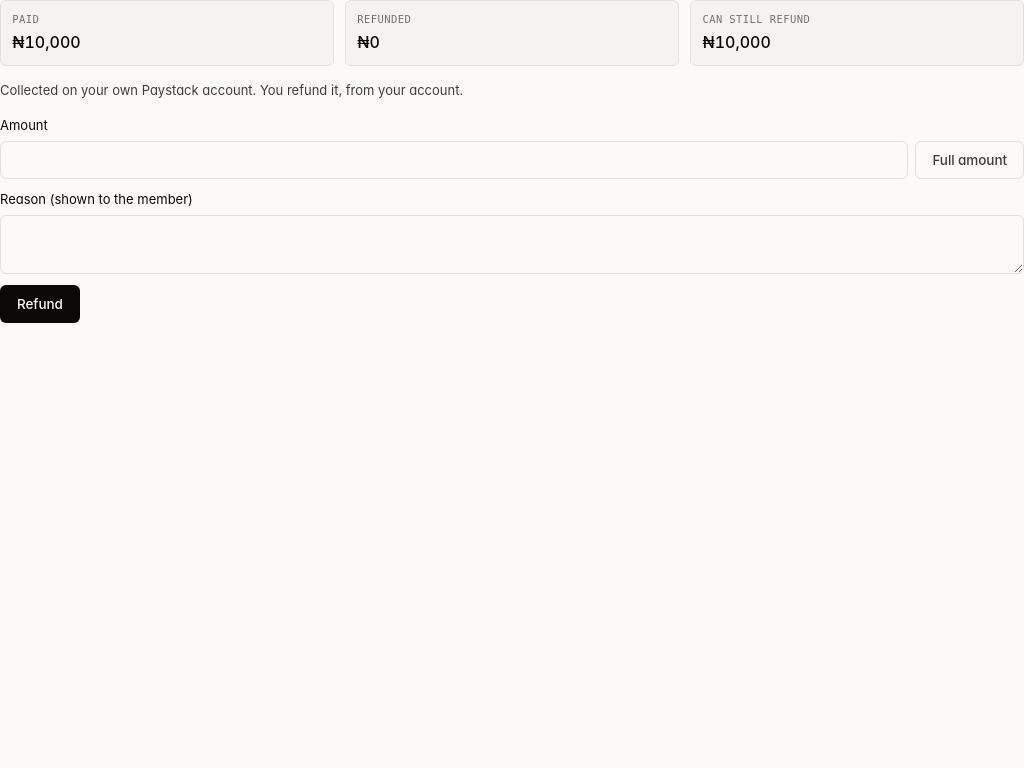
ChargeRefundPanel › own-key money: the provider refunds it, in minor units, with one key reused across a retry
Expected: the text "your own Paystack account" is shown, [0,82,463,98]
Click the button "Full amount". click: (970, 160)
box: [915,141,1023,179]
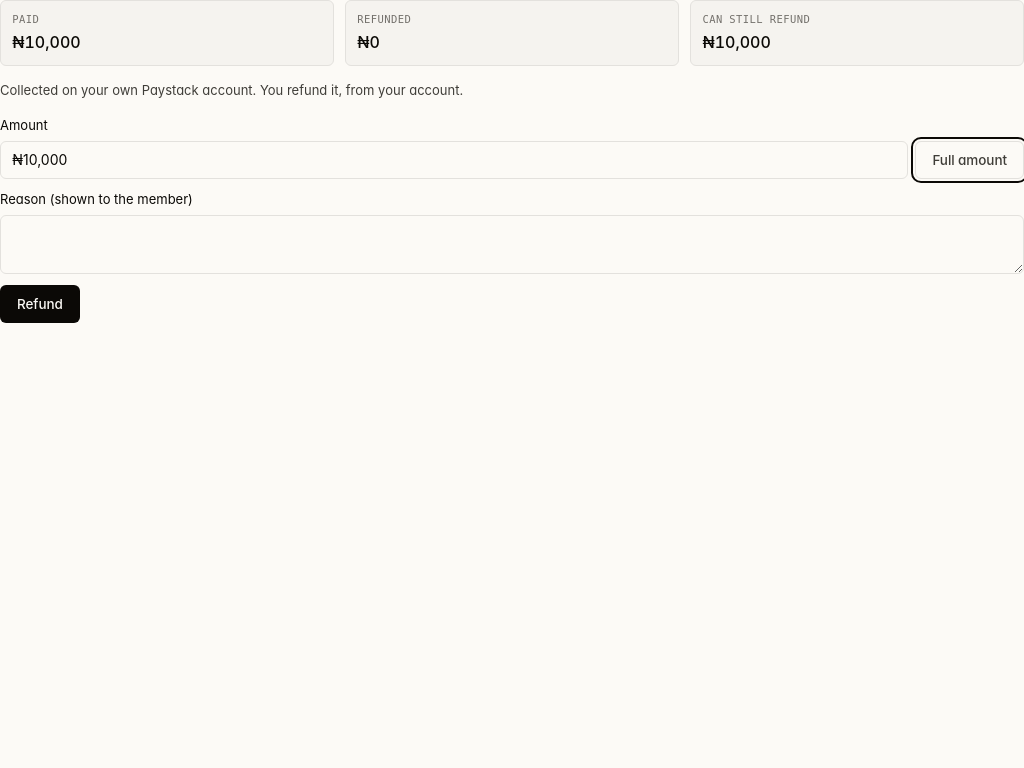
Click the button "Refund". click: (40, 304)
box: [0,285,80,323]
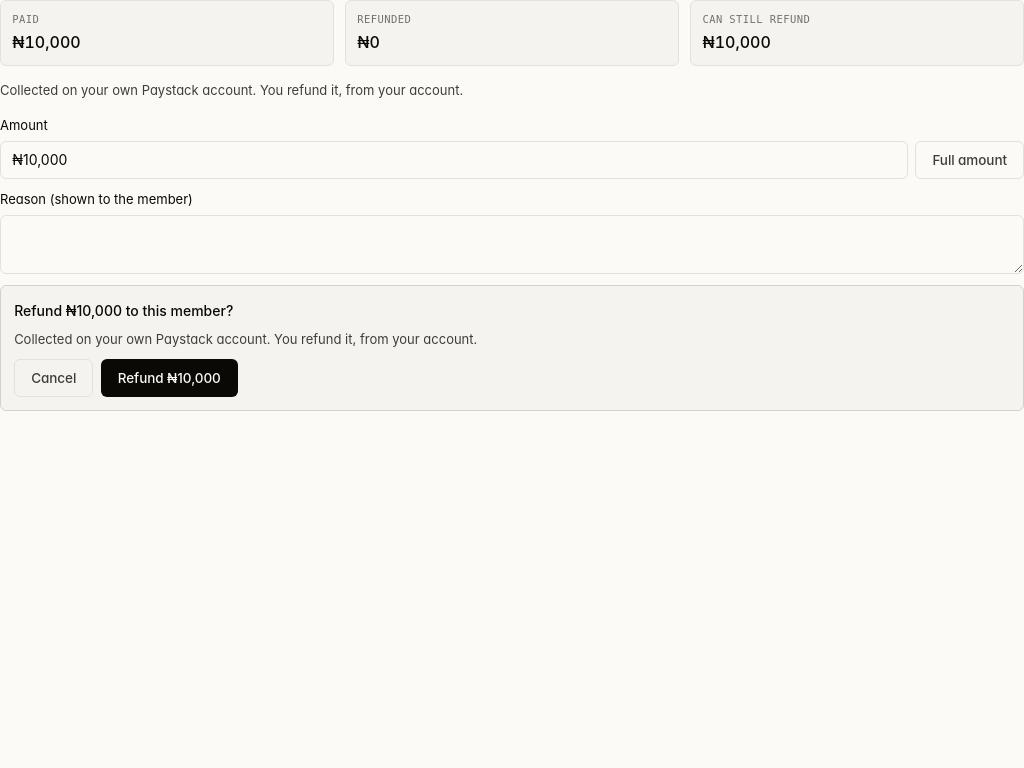
Click the button "Refund ₦10,000". click: (169, 378)
box: [101,359,238,397]
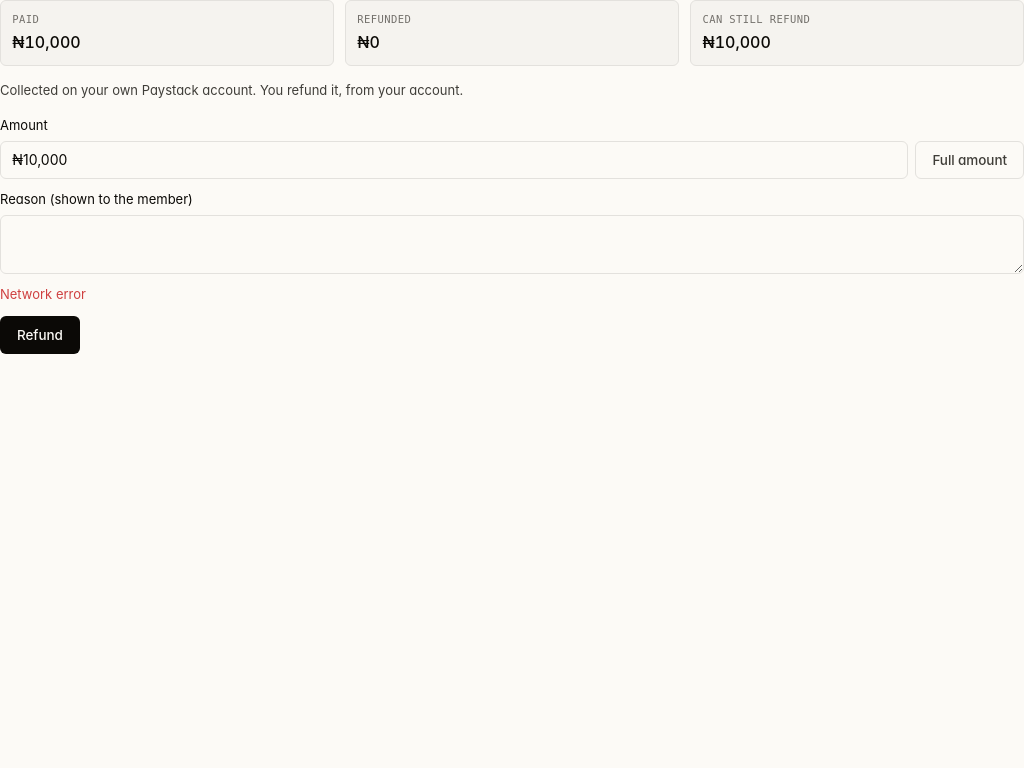
Expected: the message "Network error" is shown, [0,286,86,302]
// Trying again goes through the confirmation again, under the same key.
Click the button "Refund". click: (40, 335)
box: [0,316,80,354]
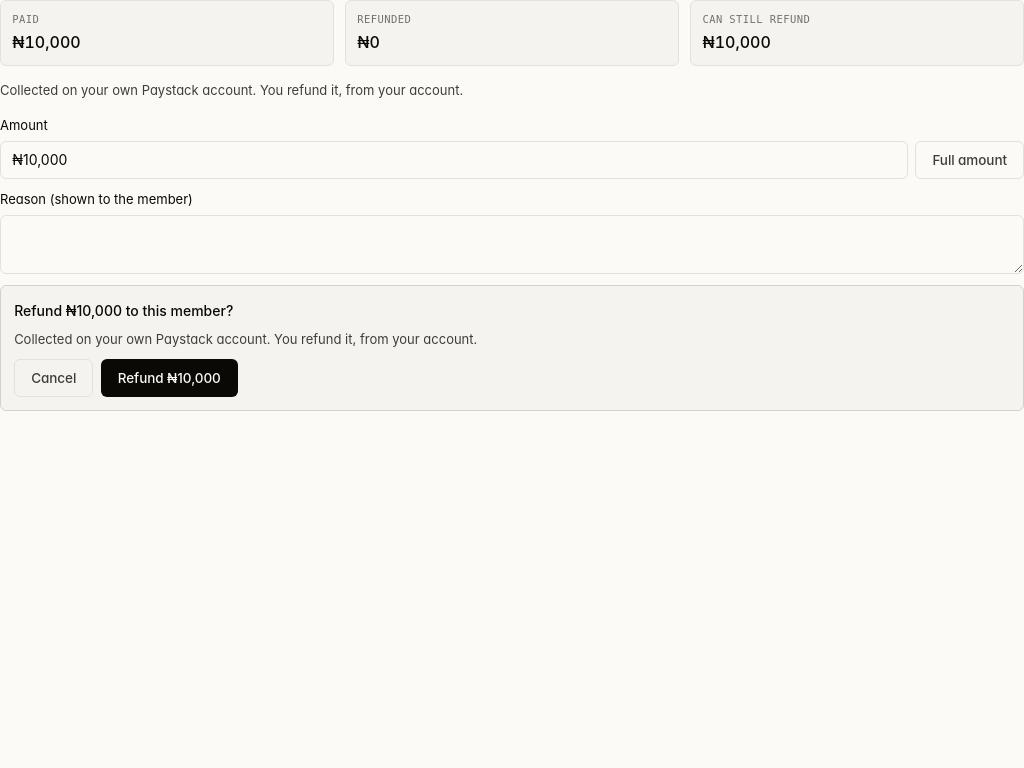
Click the button "Refund ₦10,000". click: (169, 378)
box: [101,359,238,397]
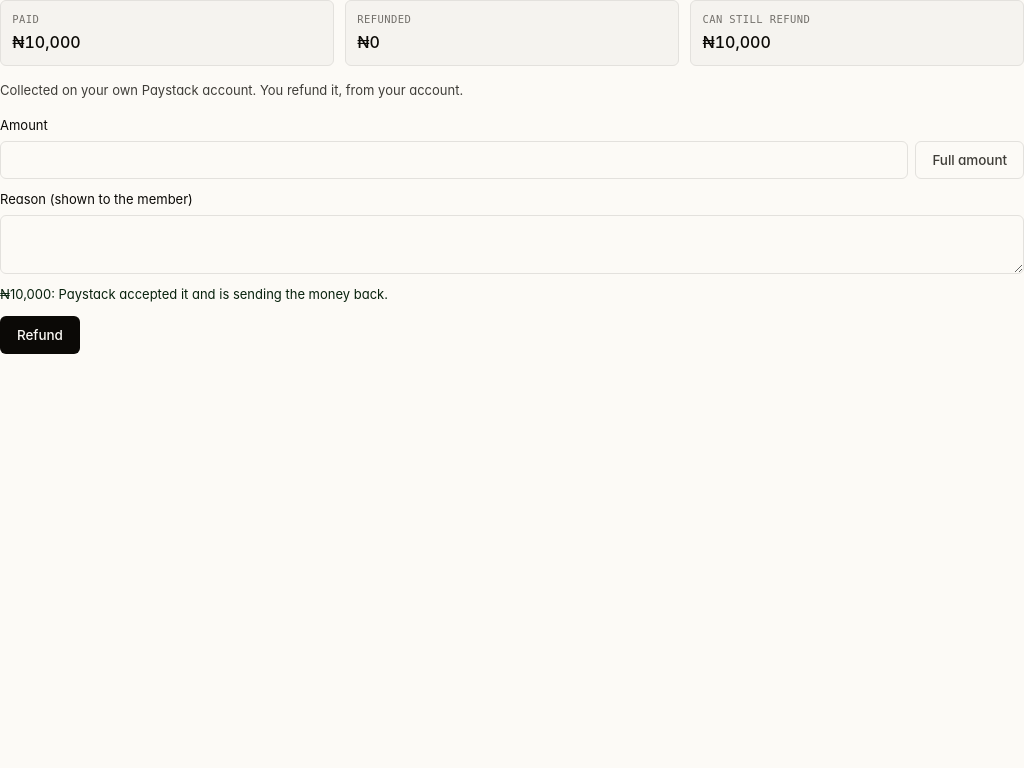
Expected: the message "₦10,000: Paystack accepted it and is sending the money back." is shown, [0,286,388,302]
